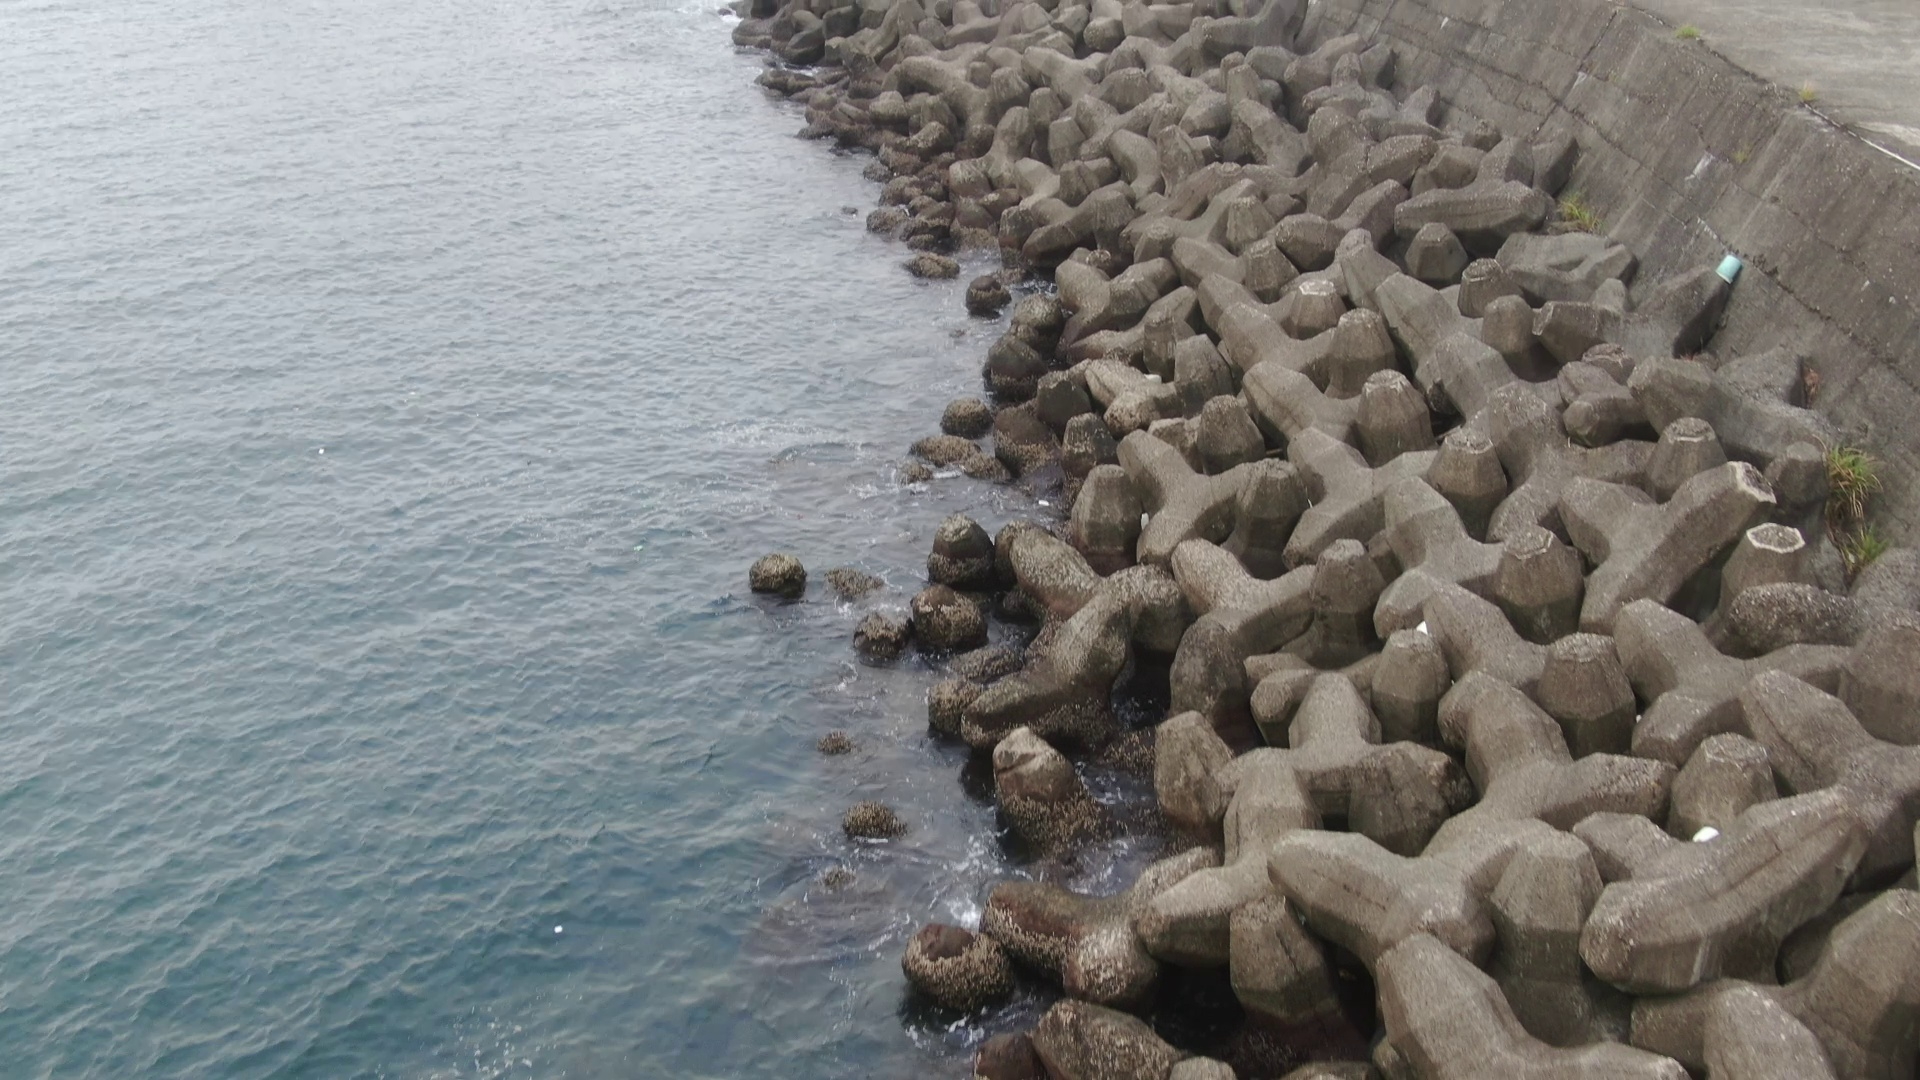garbage: (1712, 251, 1753, 287)
